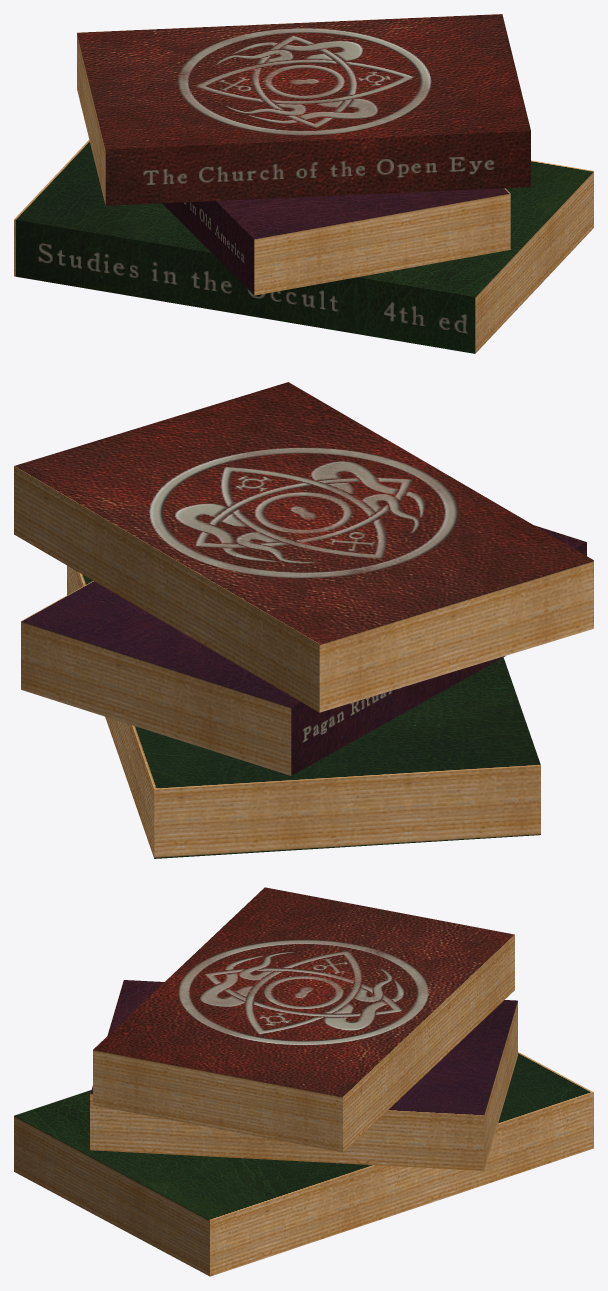
File: bookpile_2.fbx
3 renders of one model, top to bottom at view 1: azimuth 30°, elevation 25°; view 2: azimuth 150°, elevation 25°; view 3: azimuth 270°, elevation 25°, orthographic. The views are drawn at different scales.
Visible parts, largest first — view 1: bookpile2_UV:bookpile; view 2: bookpile2_UV:bookpile; view 3: bookpile2_UV:bookpile.
Part boxes in pixels (<box>): bookpile2_UV:bookpile: <box>14,14,593,353</box>; bookpile2_UV:bookpile: <box>14,382,593,858</box>; bookpile2_UV:bookpile: <box>14,887,593,1276</box>.
Size of the model in its own units: 4.25 by 1.43 by 4.47.
1 material, 1 textured.
